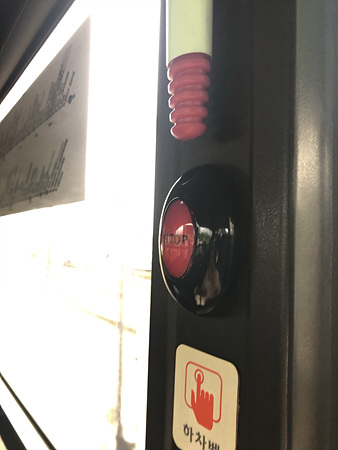bell: (160, 165, 247, 315)
